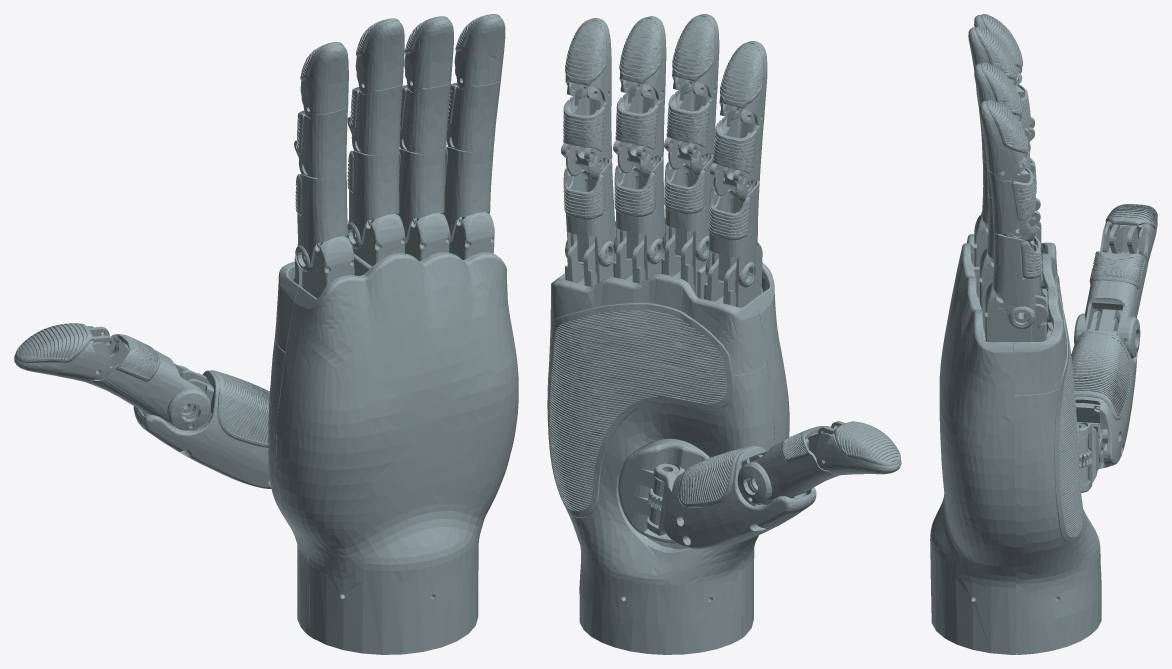
The model's file is linker-hand-l10.glb.
3 renders of one model, left to right at view 1: azimuth 30°, elevation 25°; view 2: azimuth 150°, elevation 25°; view 3: azimuth 270°, elevation 25°, orthographic. The views are drawn at different scales.
Visible parts, largest first — view 1: linker-hand-l10; view 2: linker-hand-l10; view 3: linker-hand-l10.
Boxes of the visible parts, left/top/right/bottom form: linker-hand-l10: left=14, top=14, right=518, bottom=654; linker-hand-l10: left=547, top=14, right=901, bottom=654; linker-hand-l10: left=930, top=14, right=1157, bottom=654.
Bounding box in the file's own units: 172 × 240 × 85.2.
